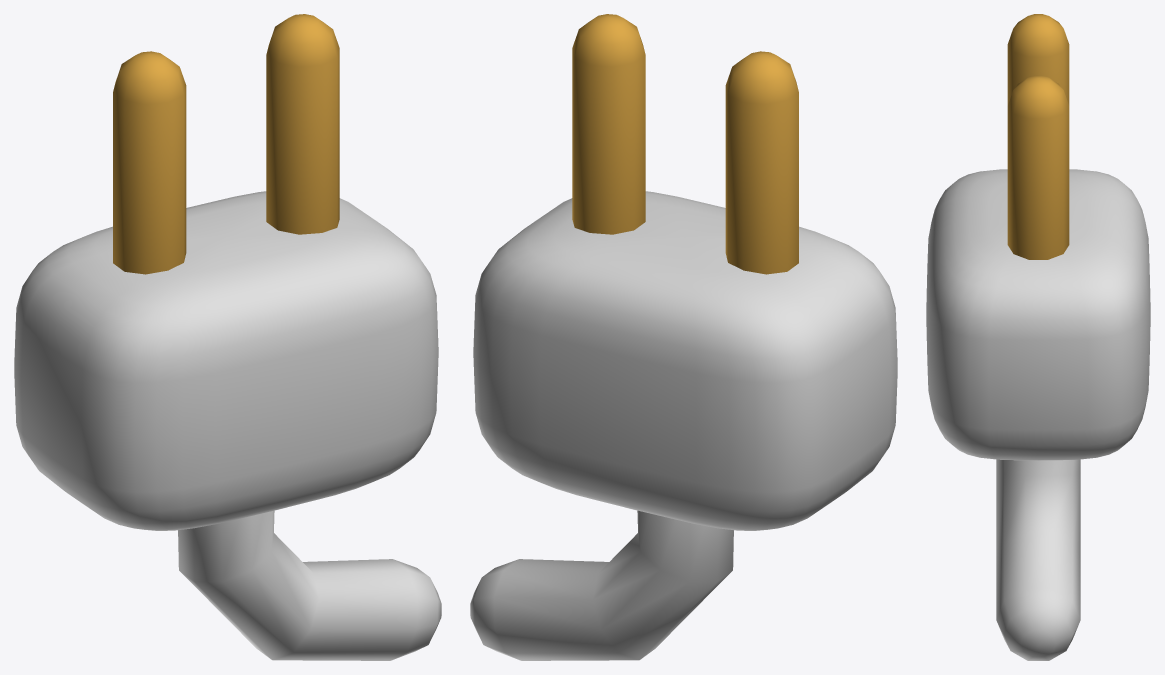
File: plug.glb
The picture shows the model from 3 angles, left to right: view 1: azimuth 30°, elevation 25°; view 2: azimuth 150°, elevation 25°; view 3: azimuth 270°, elevation 25°; orthographic projection. The views are drawn at different scales.
Visible parts, largest first — view 1: plug; view 2: plug; view 3: plug.
Part boxes in pixels (x1,y1,x2,y2): plug: (14,14,441,660); plug: (470,14,897,660); plug: (926,14,1150,660).
Size of the model in its own units: 0.6136 by 1 by 0.3757.
